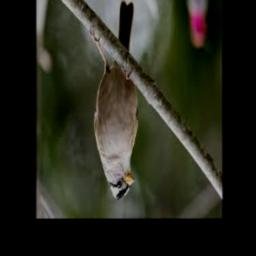Sparrow: (90, 2, 139, 200)
